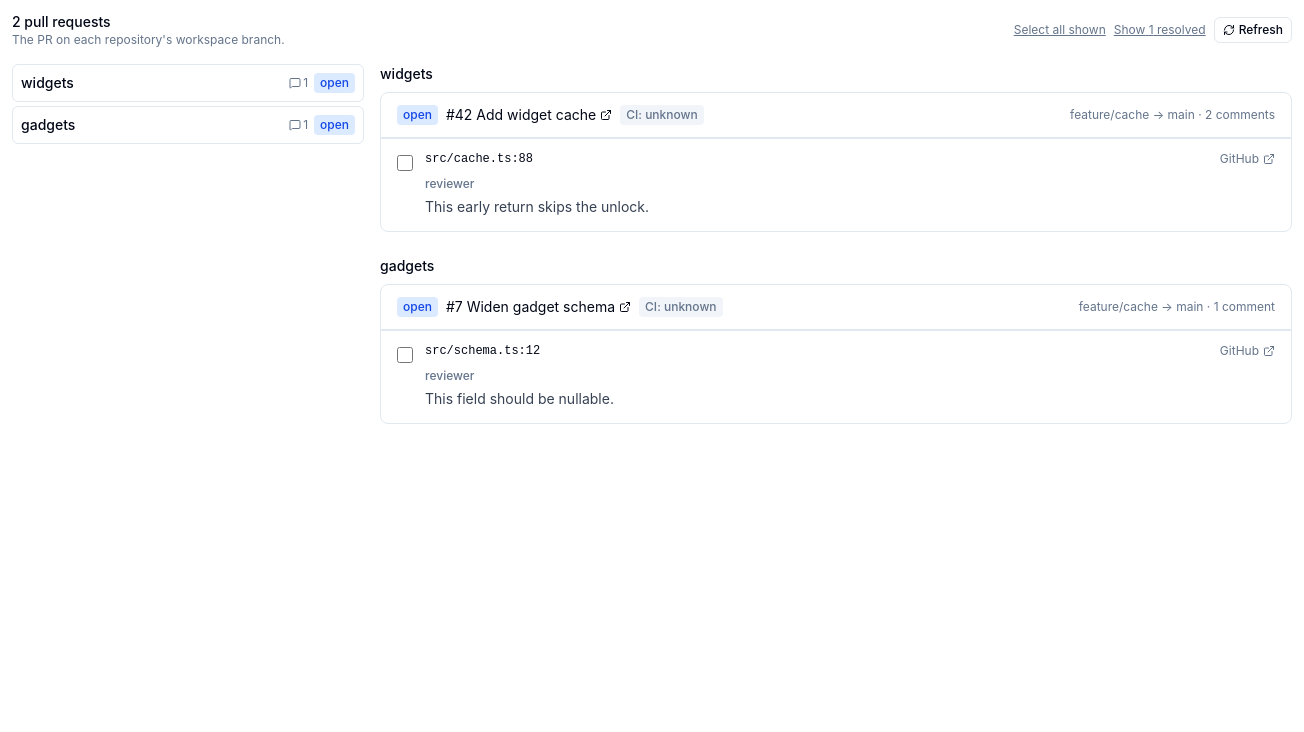
Scenario: PullRequestsView › repository scope › tells the human the run is scoped, since it is otherwise invisible
What coordinates should you click on to do the following:
click the checkbox named "src/cache.ts:88"
I would click on:
 (405, 163)
Its box is [397,155,413,171].
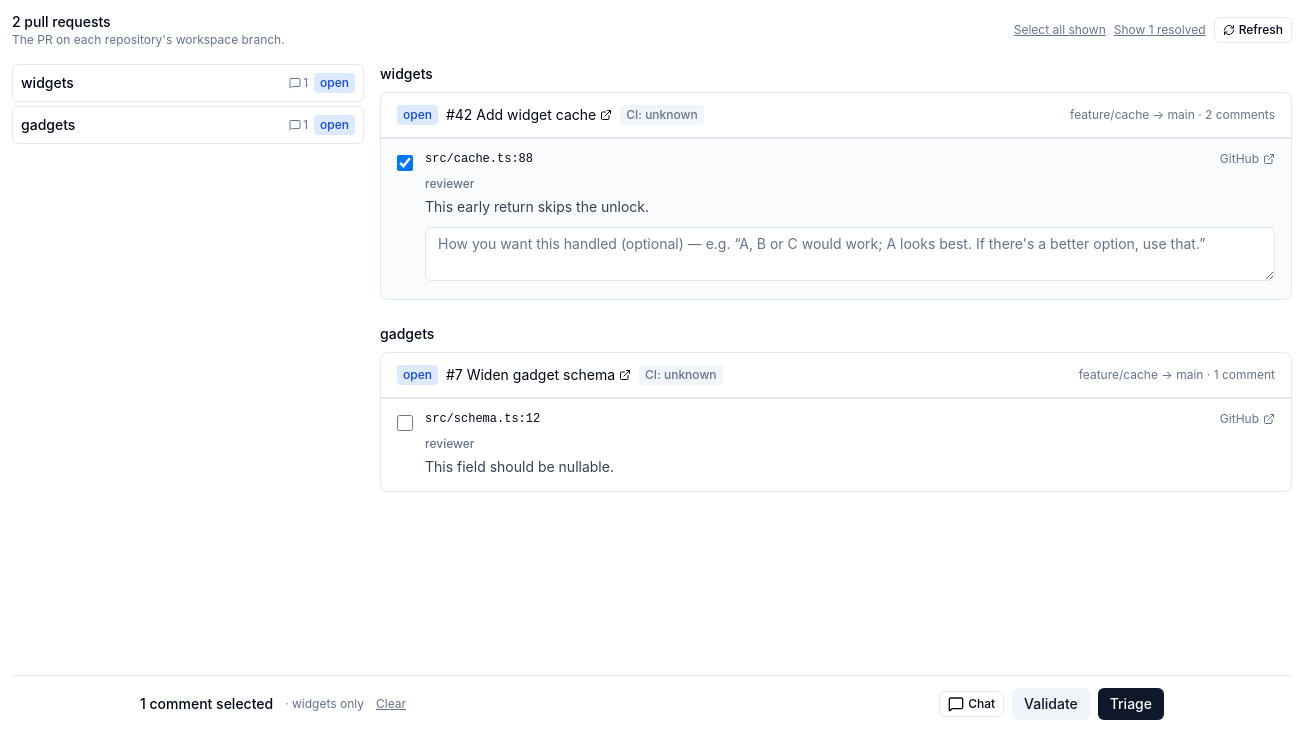
Now the text "· widgets only" is shown, box [285,696,364,712]
What coordinates should you click on to do the following:
click the checkbox named "src/schema.ts:12"
I would click on:
 (405, 423)
Its box is [397,415,413,431].
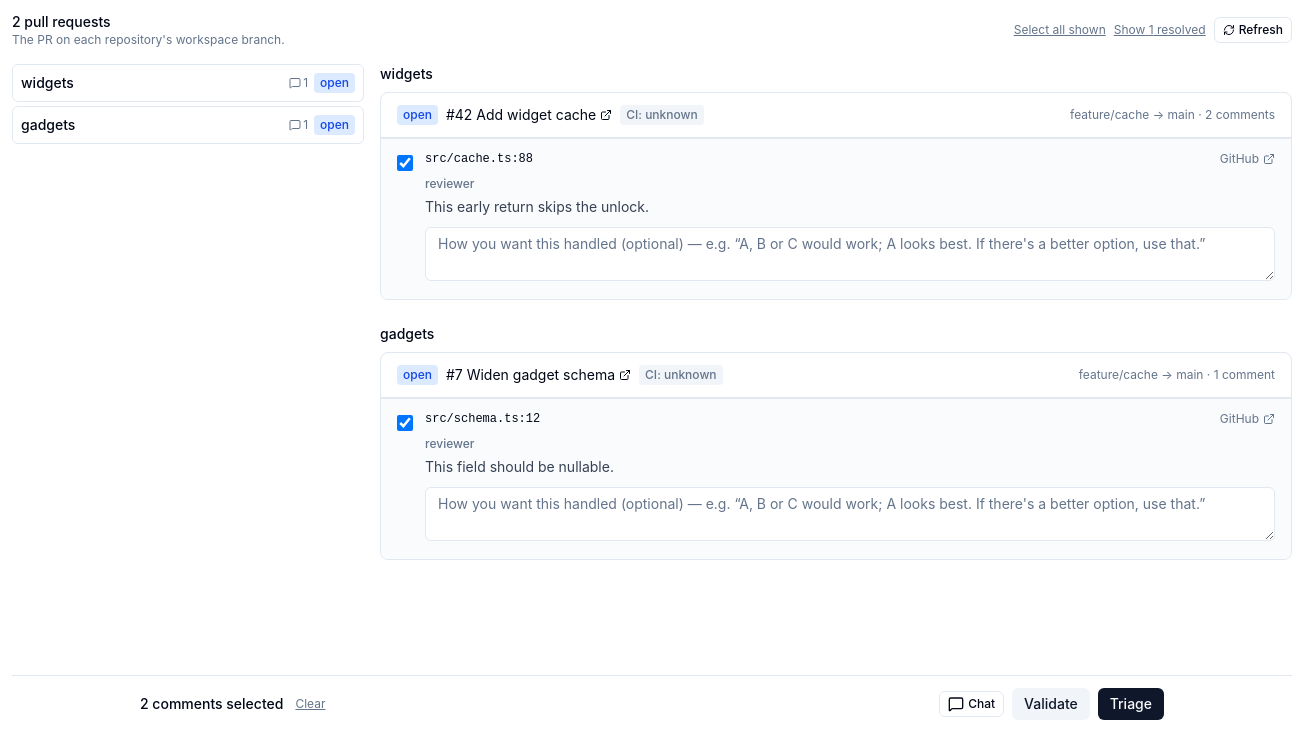
Now the text "only" is gone
